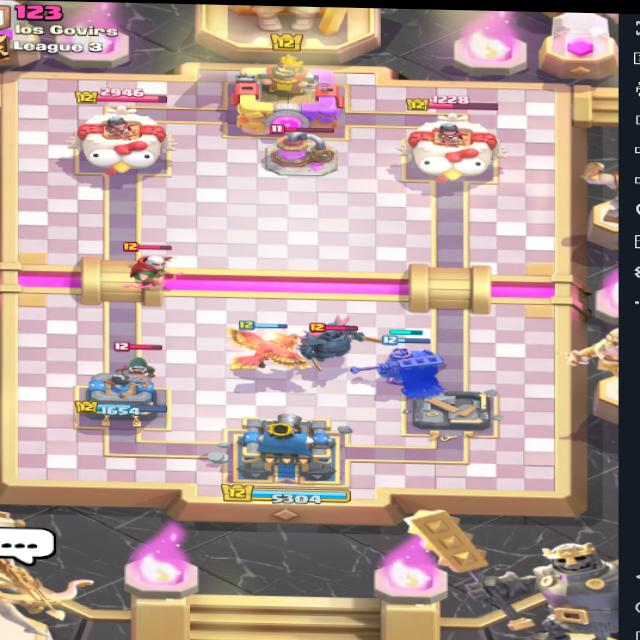bandit: (104, 339, 169, 385)
elixir-collector: (270, 122, 358, 185)
magic-archer: (119, 238, 186, 295)
pekka: (295, 318, 378, 371)
